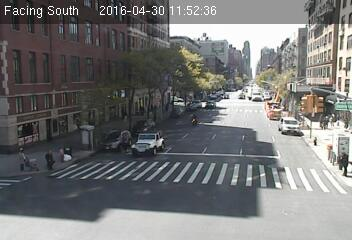neg: (69, 79, 99, 119), (280, 182, 308, 219), (257, 149, 282, 183), (228, 90, 252, 123), (240, 61, 264, 93), (169, 164, 191, 194), (122, 123, 143, 151), (209, 165, 229, 192), (120, 188, 140, 215), (279, 109, 299, 134), (39, 102, 58, 128), (150, 126, 168, 151), (260, 102, 277, 125), (317, 152, 333, 173), (280, 53, 296, 74), (337, 153, 351, 176), (187, 112, 202, 132), (82, 134, 96, 154), (138, 87, 152, 106), (55, 180, 68, 197), (84, 178, 96, 194), (37, 212, 46, 225), (197, 73, 204, 83), (58, 150, 65, 159)
pos: (9, 145, 33, 177), (36, 147, 58, 178), (317, 112, 332, 133)
